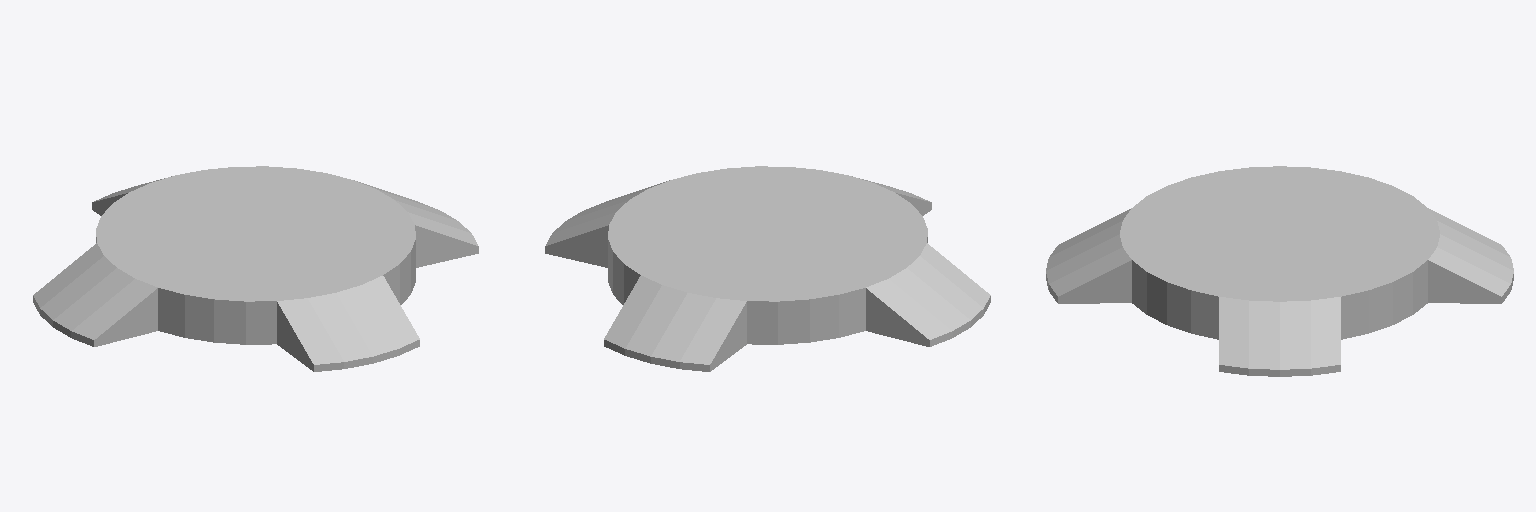
File: tower_base.obj
3 views of the same model, side by side, from view 1: azimuth 30°, elevation 25°; view 2: azimuth 150°, elevation 25°; view 3: azimuth 270°, elevation 25° (orthographic).
Visible parts, largest first — view 1: Cube.002; view 2: Cube.002; view 3: Cube.002.
Part boxes in pixels (bbox=[...]): Cube.002: bbox=[33, 166, 478, 371]; Cube.002: bbox=[545, 166, 990, 371]; Cube.002: bbox=[1046, 166, 1513, 376].
Bounding box in the file's own units: 12.69 × 1.31 × 12.69.